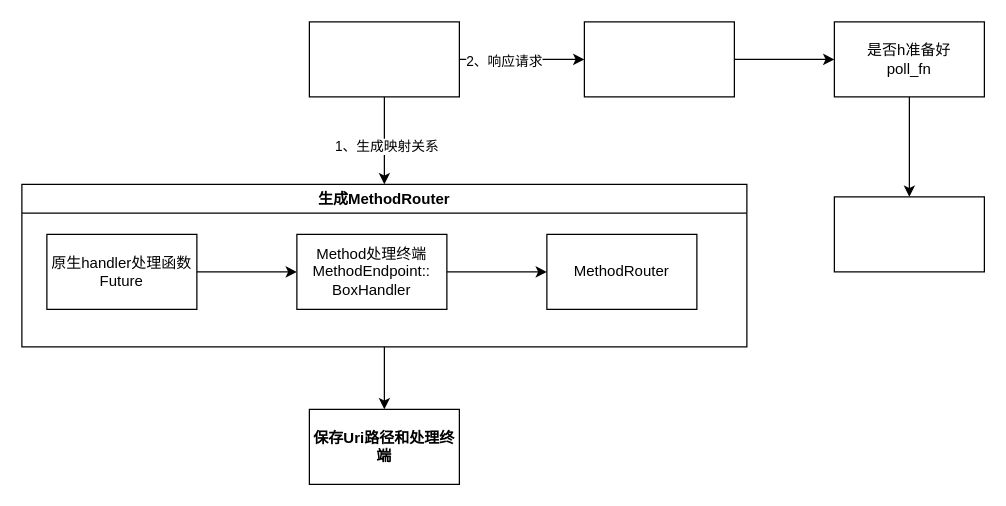
This 1006x506 diagram has some shape labels left out. The centre of each missing label's shape, as x and y in pixels:
"Route" belongs at (383,59).
"将字节流解析成Req" belongs at (658,59).
"调用终端处理 future.call(req)" belongs at (908,234).
